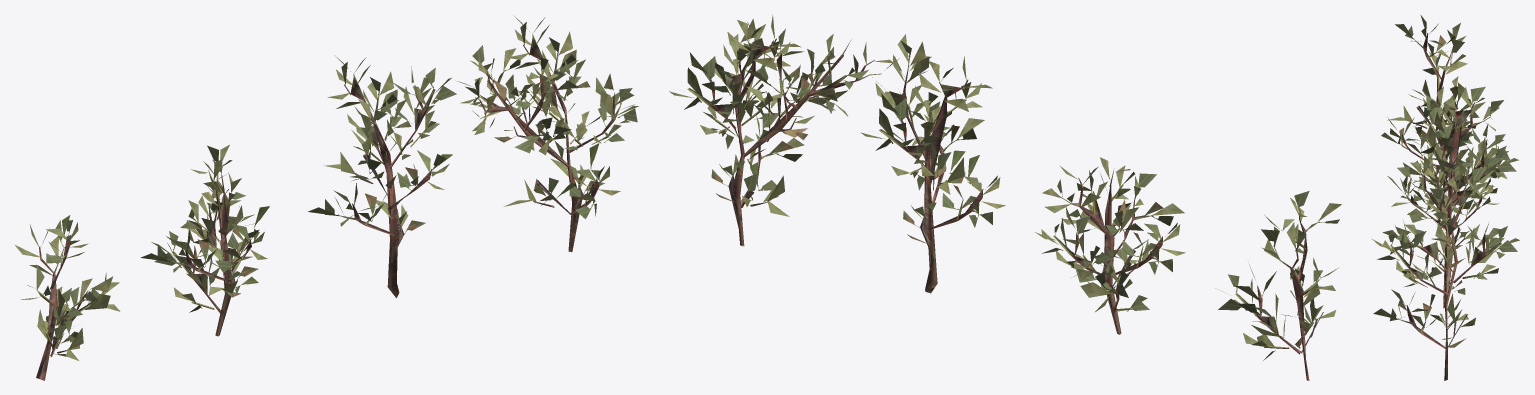
The model's file is shrub_tuft.glb.
3 renders of one model, left to right at view 1: azimuth 30°, elevation 25°; view 2: azimuth 150°, elevation 25°; view 3: azimuth 270°, elevation 25°, orthographic. The views are drawn at different scales.
Parts seen in each view (by area): view 1: shrub_04; view 2: shrub_04; view 3: shrub_04.
Part boxes in pixels (left/top/right/bottom): shrub_04: left=15, top=15, right=638, bottom=380; shrub_04: left=669, top=15, right=1341, bottom=380; shrub_04: left=1372, top=15, right=1519, bottom=380.
Size of the model in its own units: 0.5792 by 0.2211 by 0.1428.
Materials: 1 (1 with a texture image).
